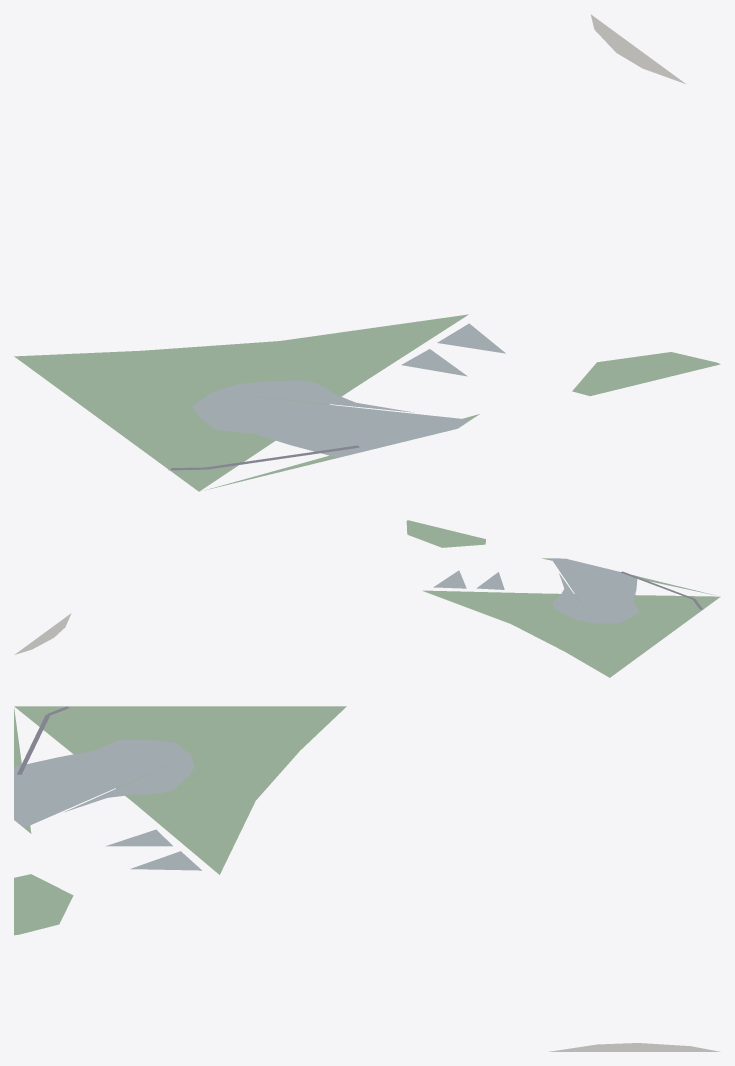
File: 95_113_mid.glb
3 renders of one model, top to bottom at view 1: azimuth 30°, elevation 25°; view 2: azimuth 150°, elevation 25°; view 3: azimuth 270°, elevation 25°, orthographic. The views are drawn at different scales.
Size of the model in its own units: 501 by 2.9 by 434.
